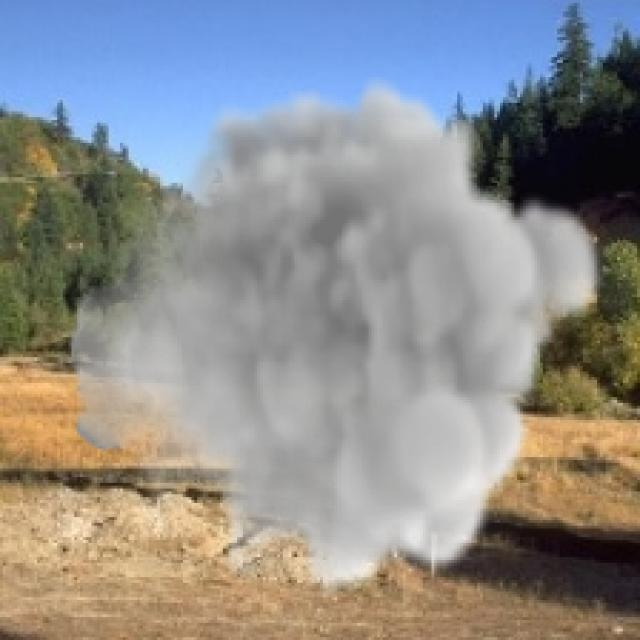Smoke: (66, 77, 608, 600)
